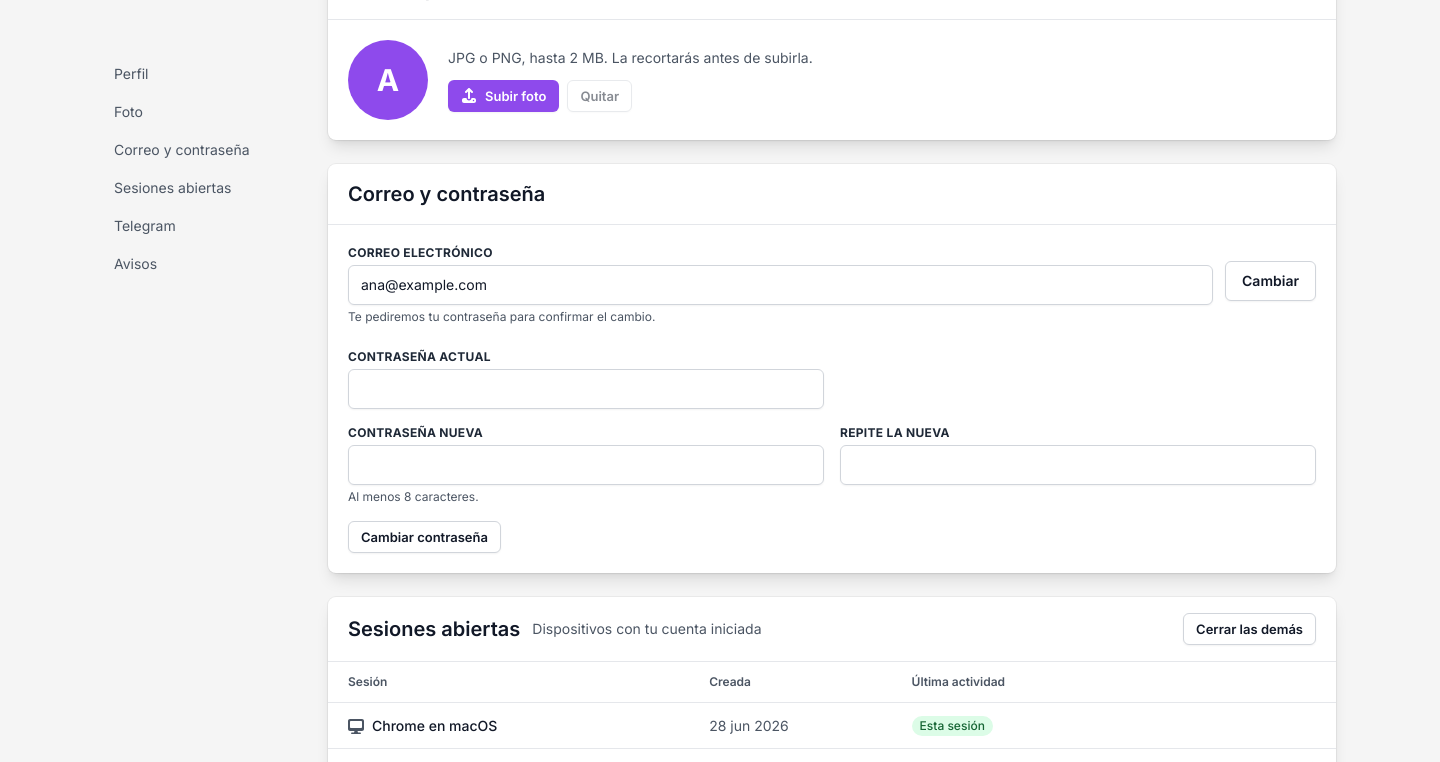
Scenario: Account settings (U3) › shows a wrong current password under its field
(page scrolled)
Type "incorrecta" into the password field labelled "Contraseña actual". click: (586, 389)
box: [348,369,824,409]
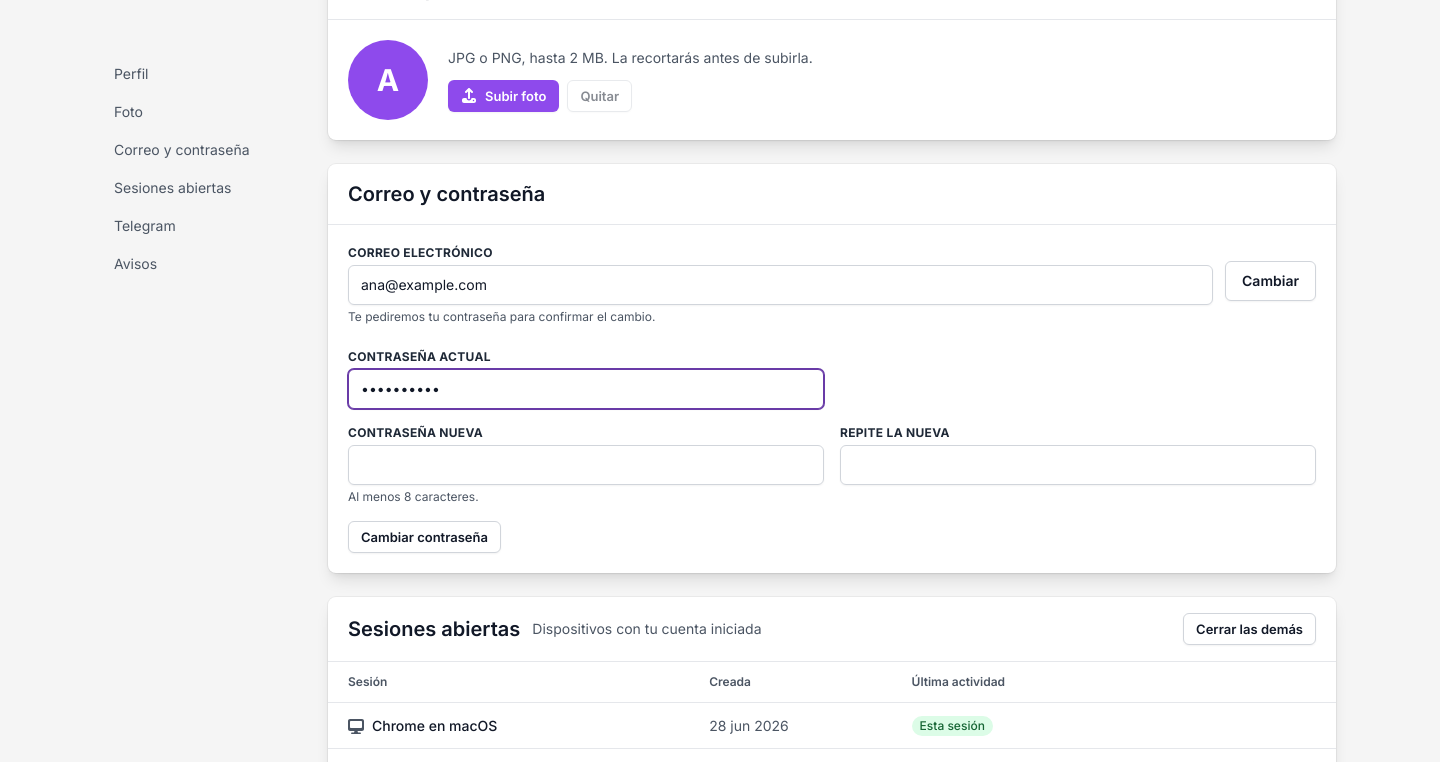
Type "nueva-clave-1" into the password field labelled "Contraseña nueva". click: (586, 465)
box: [348,445,824,485]
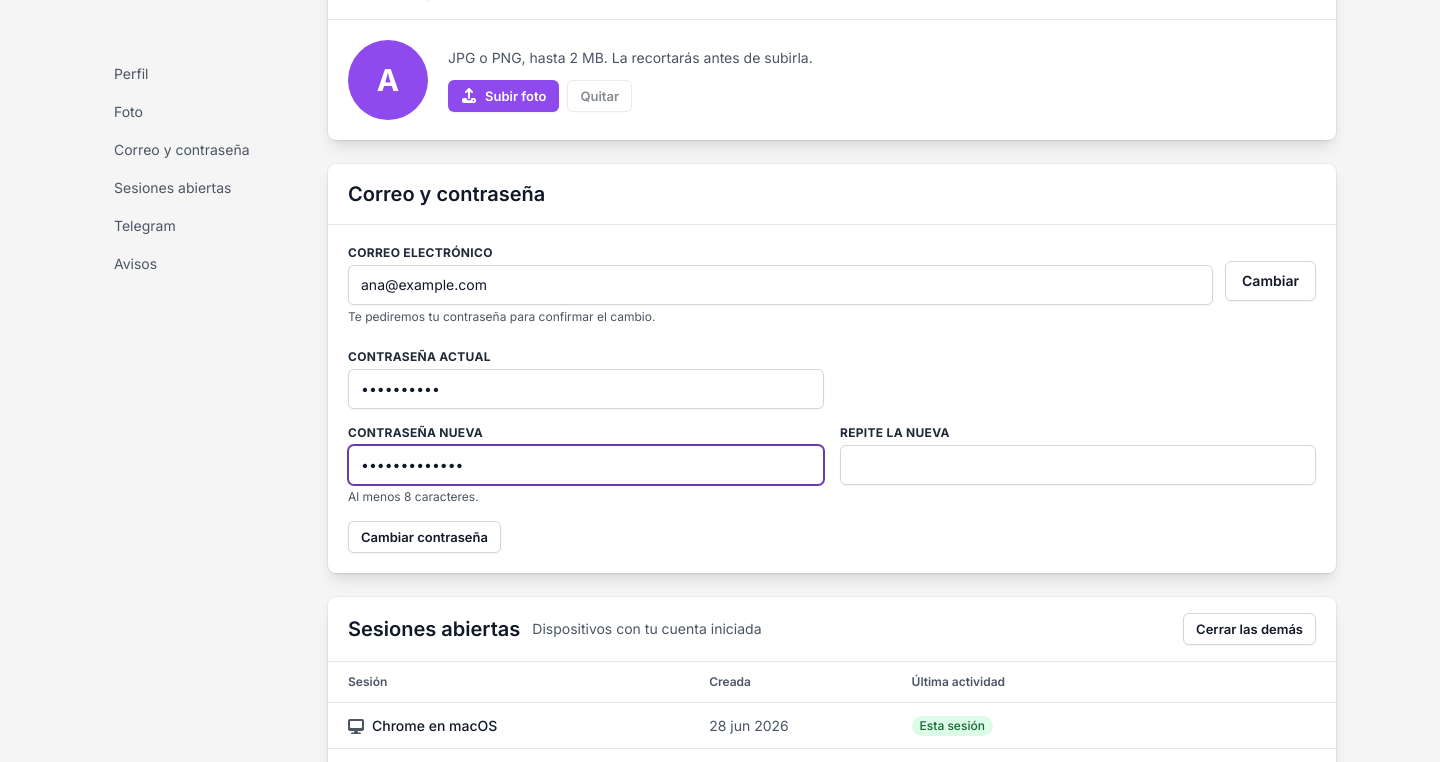
Type "nueva-clave-1" into the password field labelled "Repite la nueva". click: (1078, 465)
box: [840,445,1316,485]
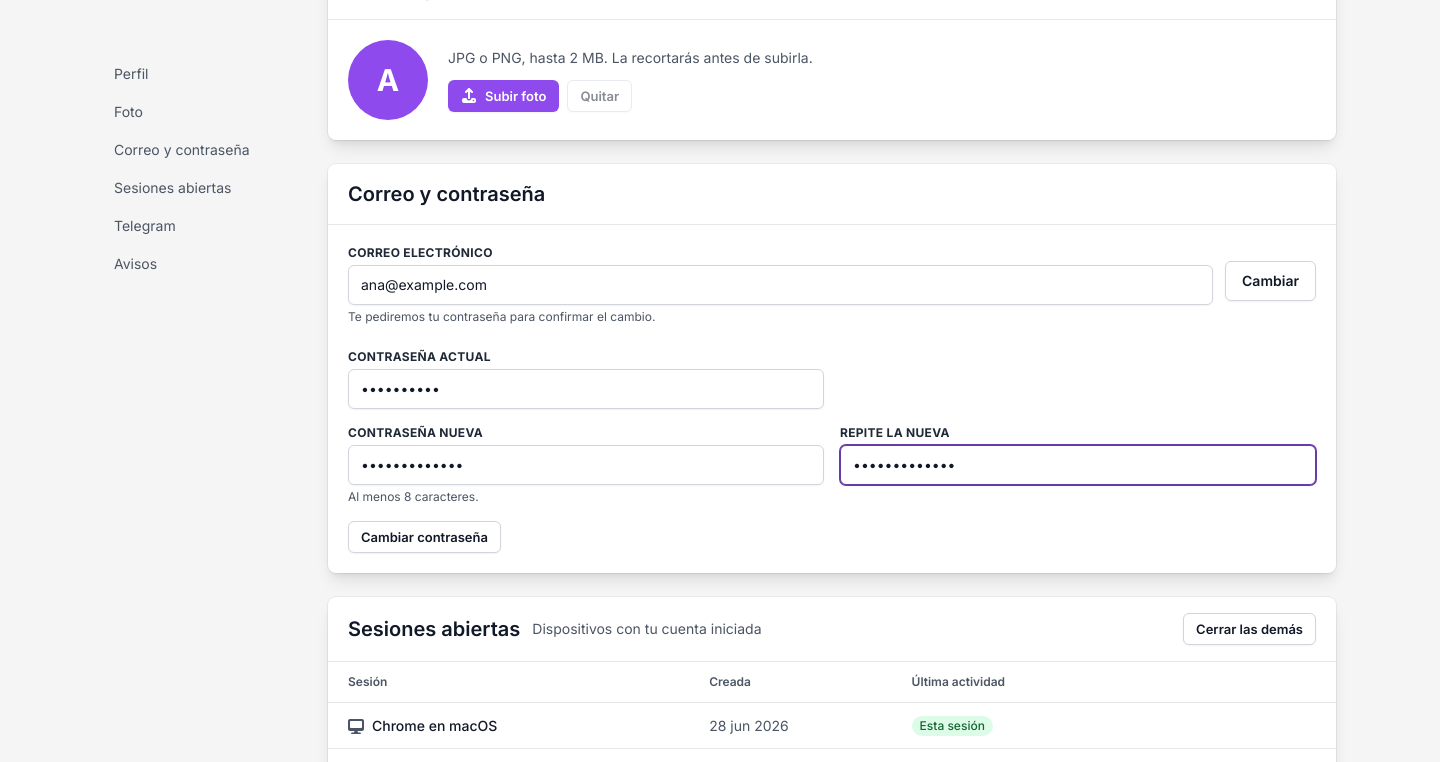
Click the button "Cambiar contraseña". click: (424, 537)
box: [348,521,501,553]
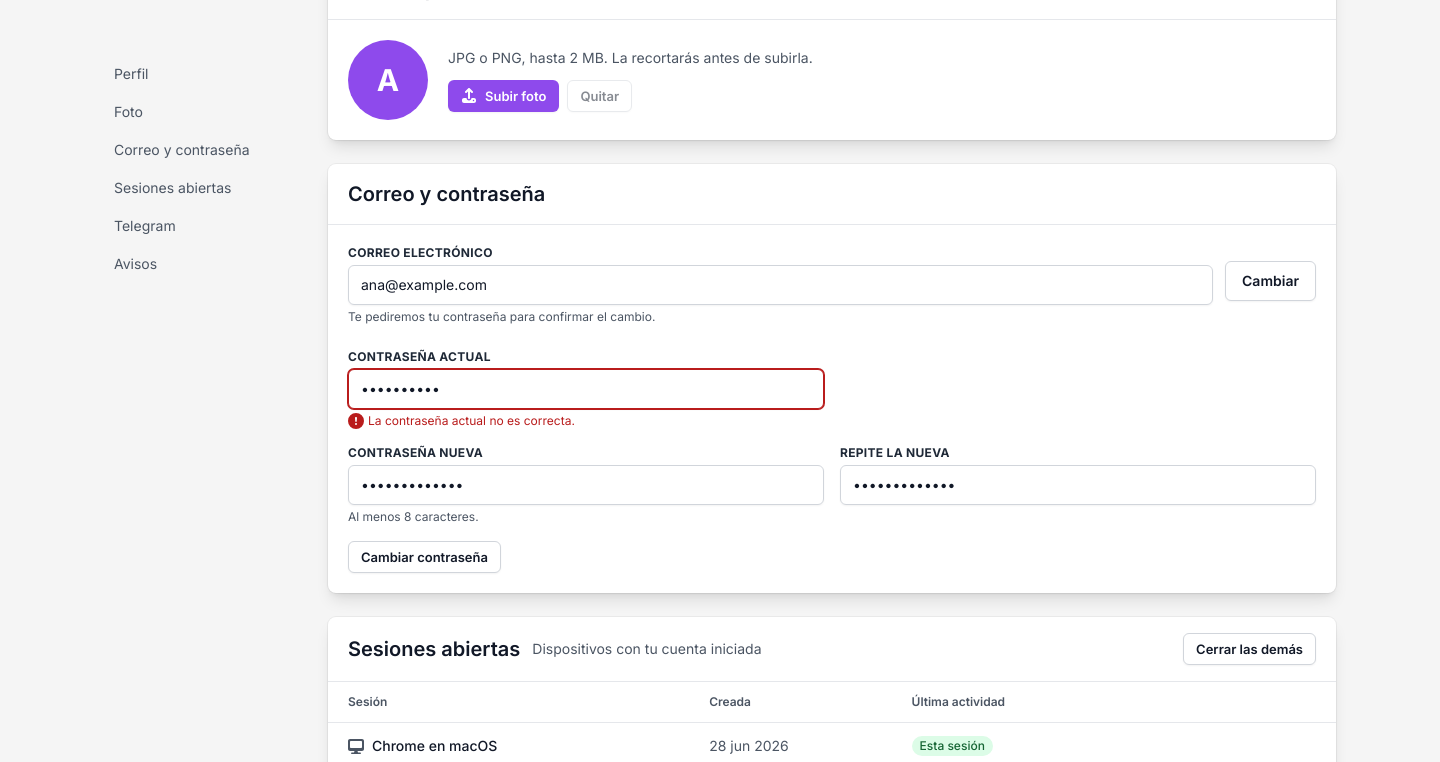
Expected: the text "La contraseña actual no es correcta." is shown, [368,413,575,429]
